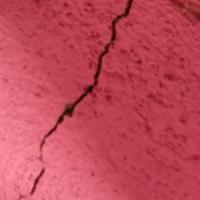crack: (17, 0, 142, 199)
